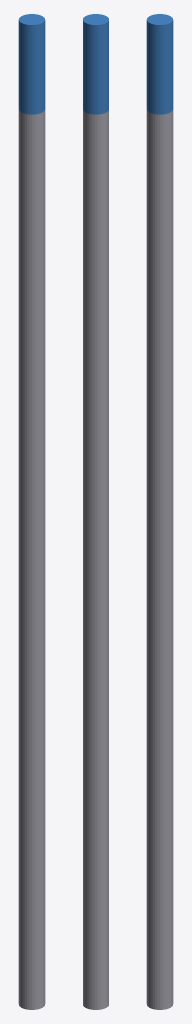
The model's file is 0E3C98fixed1.glb.
The picture shows the model from 3 angles, left to right: view 1: azimuth 90°, elevation 25°; view 2: azimuth 150°, elevation 25°; view 3: azimuth 270°, elevation 25°; orthographic projection.
Parts seen in each view (by area): view 1: Long_Electrode_Body, Long_Electrode_Tip; view 2: Long_Electrode_Body, Long_Electrode_Tip; view 3: Long_Electrode_Body, Long_Electrode_Tip.
Part boxes in pixels (x1=…): Long_Electrode_Body: x1=18, y1=109, x2=45, y2=1009; Long_Electrode_Tip: x1=18, y1=14, x2=45, y2=114; Long_Electrode_Body: x1=83, y1=110, x2=108, y2=1009; Long_Electrode_Tip: x1=83, y1=14, x2=108, y2=114; Long_Electrode_Body: x1=146, y1=109, x2=173, y2=1009; Long_Electrode_Tip: x1=146, y1=14, x2=173, y2=114.
Size of the model in its own units: 0.4 by 16.5 by 0.4.
